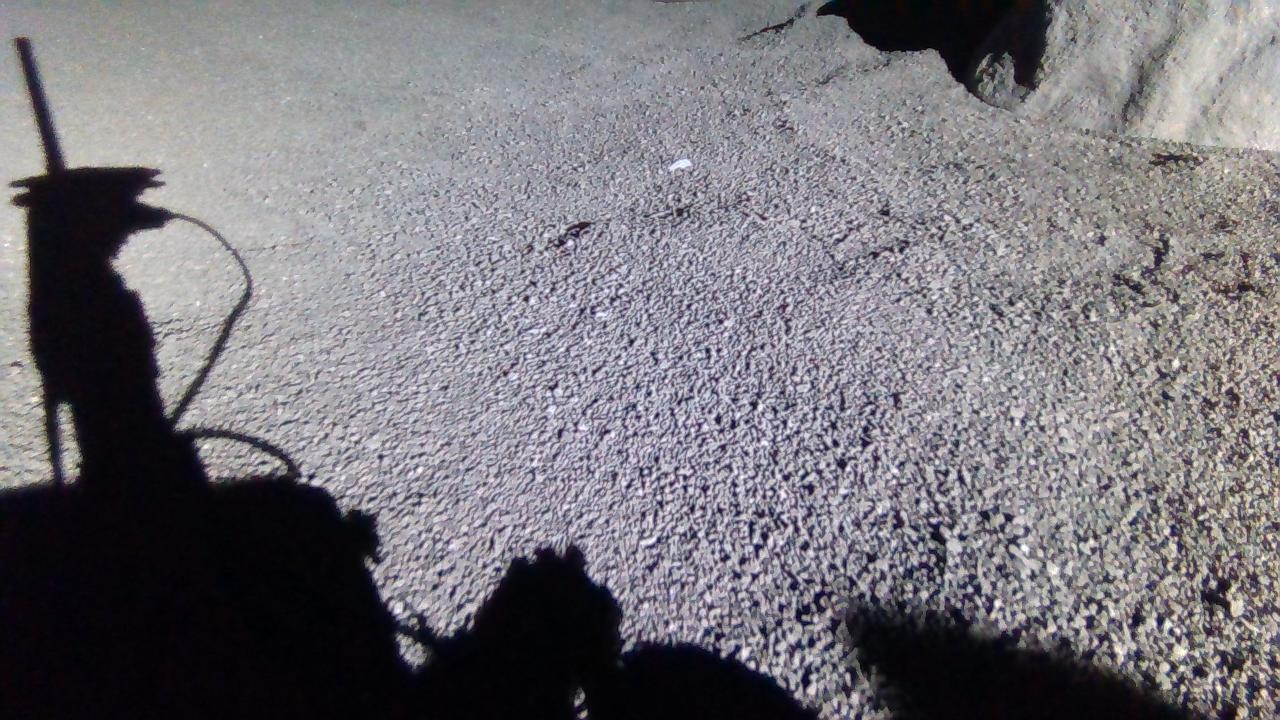rock: (968, 0, 1280, 148)
